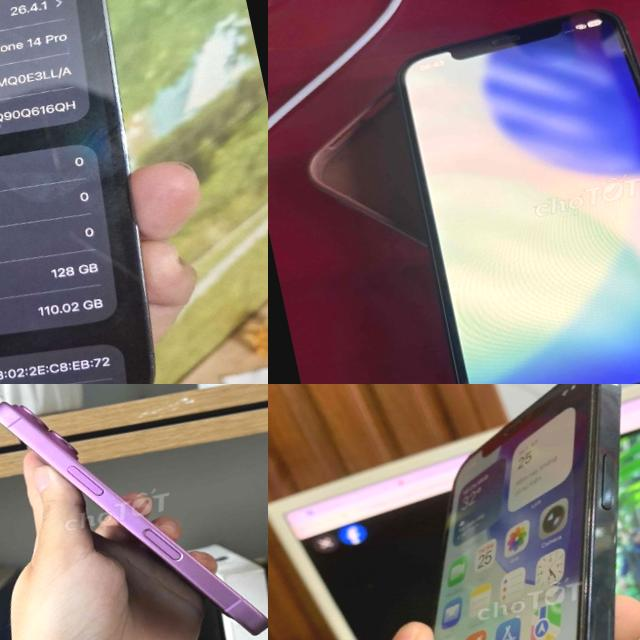scratch: (487, 463, 640, 640)
